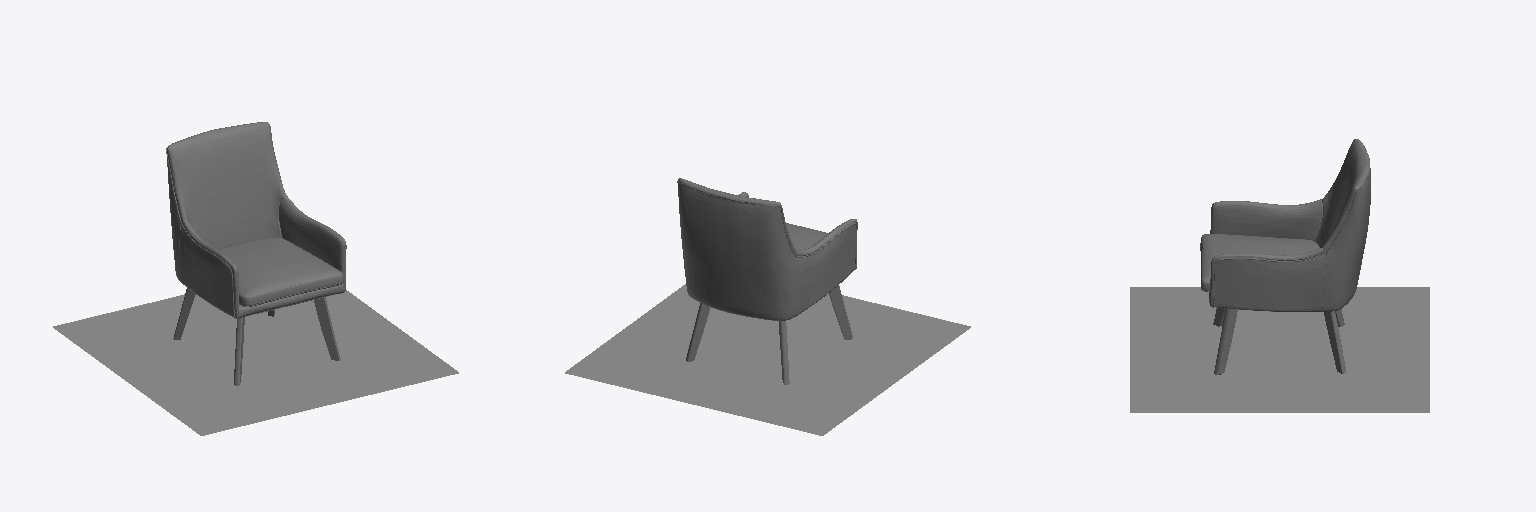
Rendered from MCRW6355_v6_LOD2.obj.
The picture shows the model from 3 angles: view 1: azimuth 30°, elevation 25°; view 2: azimuth 150°, elevation 25°; view 3: azimuth 270°, elevation 25°; orthographic projection.
Parts seen in each view (by area): view 1: shadow_plane_v6, not_clear_obj_0_v6, not_clear_obj_2_v6; view 2: shadow_plane_v6, not_clear_obj_0_v6, not_clear_obj_2_v6; view 3: shadow_plane_v6, not_clear_obj_0_v6, not_clear_obj_2_v6.
Boxes of the visible parts, x1,y1,x2,y2 form: shadow_plane_v6: [53, 290, 458, 435]; not_clear_obj_0_v6: [166, 122, 346, 318]; not_clear_obj_2_v6: [173, 288, 340, 385]; shadow_plane_v6: [565, 284, 970, 435]; not_clear_obj_0_v6: [677, 178, 857, 320]; not_clear_obj_2_v6: [686, 285, 852, 384]; shadow_plane_v6: [1130, 287, 1429, 412]; not_clear_obj_0_v6: [1200, 139, 1370, 311]; not_clear_obj_2_v6: [1213, 308, 1345, 374].
Size of the model in its own units: 126 by 87.66 by 126.